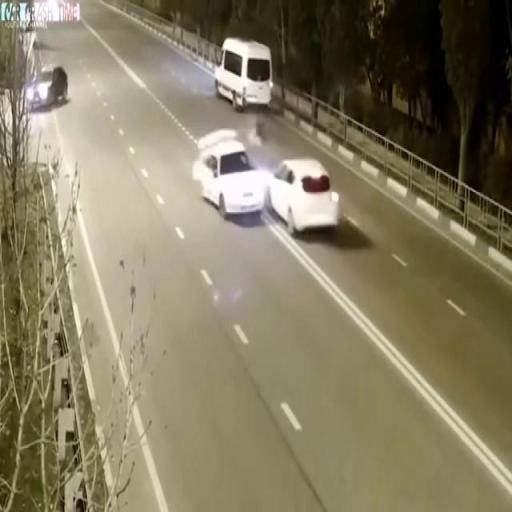小汽车: (213, 35, 272, 111), (26, 67, 72, 107)
小汽车撞小汽车: (194, 130, 340, 235)
